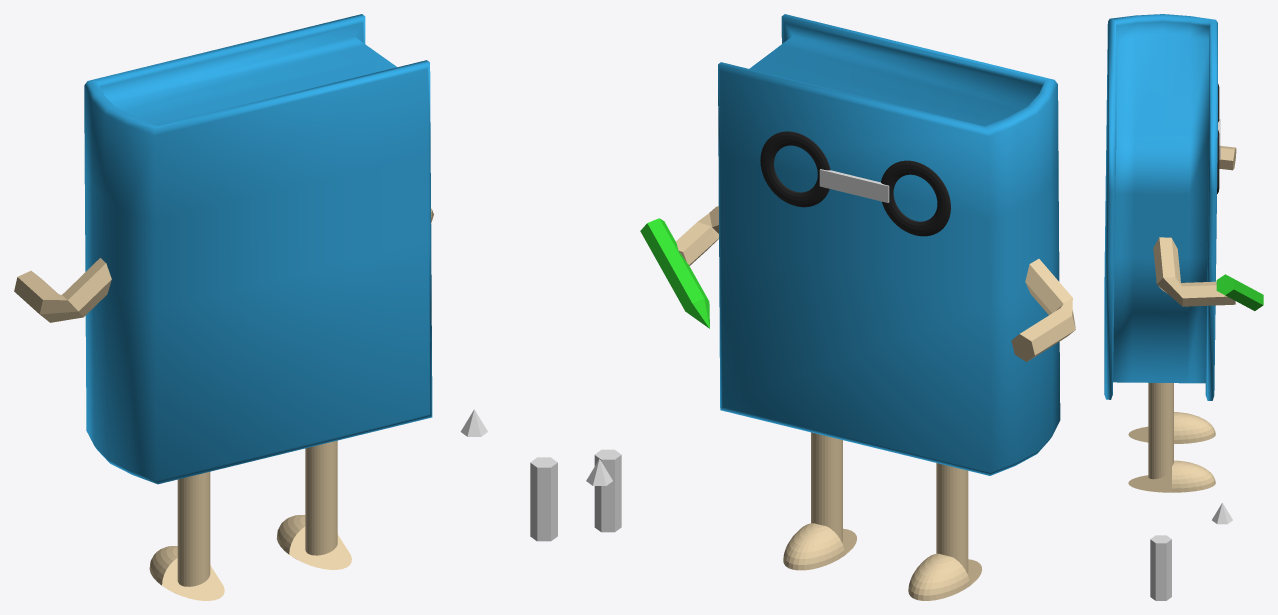
File: book.fbx
3 renders of one model, left to right at view 1: azimuth 30°, elevation 25°; view 2: azimuth 150°, elevation 25°; view 3: azimuth 270°, elevation 25°, orthographic. The views are drawn at different scales.
Visible parts, largest first — view 1: 円柱.004, 円柱.008, 円柱.001, 円柱; view 2: 円柱.004, 円柱.008, 円柱.005, 円柱.001, 円柱.013, 円柱, 円柱.002; view 3: 円柱.004, 円柱.008, 円柱.001, 円柱, 円柱.013, 円錐, 円柱.005.
Boxes of the visible parts, bbox=[...] form: 円柱.004: bbox=[84, 14, 432, 484]; 円柱.008: bbox=[149, 440, 351, 600]; 円柱.001: bbox=[14, 208, 433, 322]; 円柱: bbox=[530, 457, 557, 541]; 円柱.004: bbox=[718, 14, 1060, 475]; 円柱.008: bbox=[783, 432, 981, 600]; 円柱.005: bbox=[760, 131, 950, 236]; 円柱.001: bbox=[676, 206, 1075, 361]; 円柱.013: bbox=[640, 218, 709, 328]; 円柱: bbox=[594, 449, 621, 532]; 円柱.002: bbox=[819, 169, 889, 202]; 円柱.004: bbox=[1104, 14, 1217, 400]; 円柱.008: bbox=[1128, 383, 1215, 492]; 円柱.001: bbox=[1153, 146, 1236, 306]; 円柱: bbox=[1150, 535, 1171, 600]; 円柱.013: bbox=[1216, 274, 1263, 310]; 円錐: bbox=[1212, 503, 1232, 524]; 円柱.005: bbox=[1217, 84, 1219, 193].
Size of what is drawn, in the model's own units: 460 by 469 by 162.
